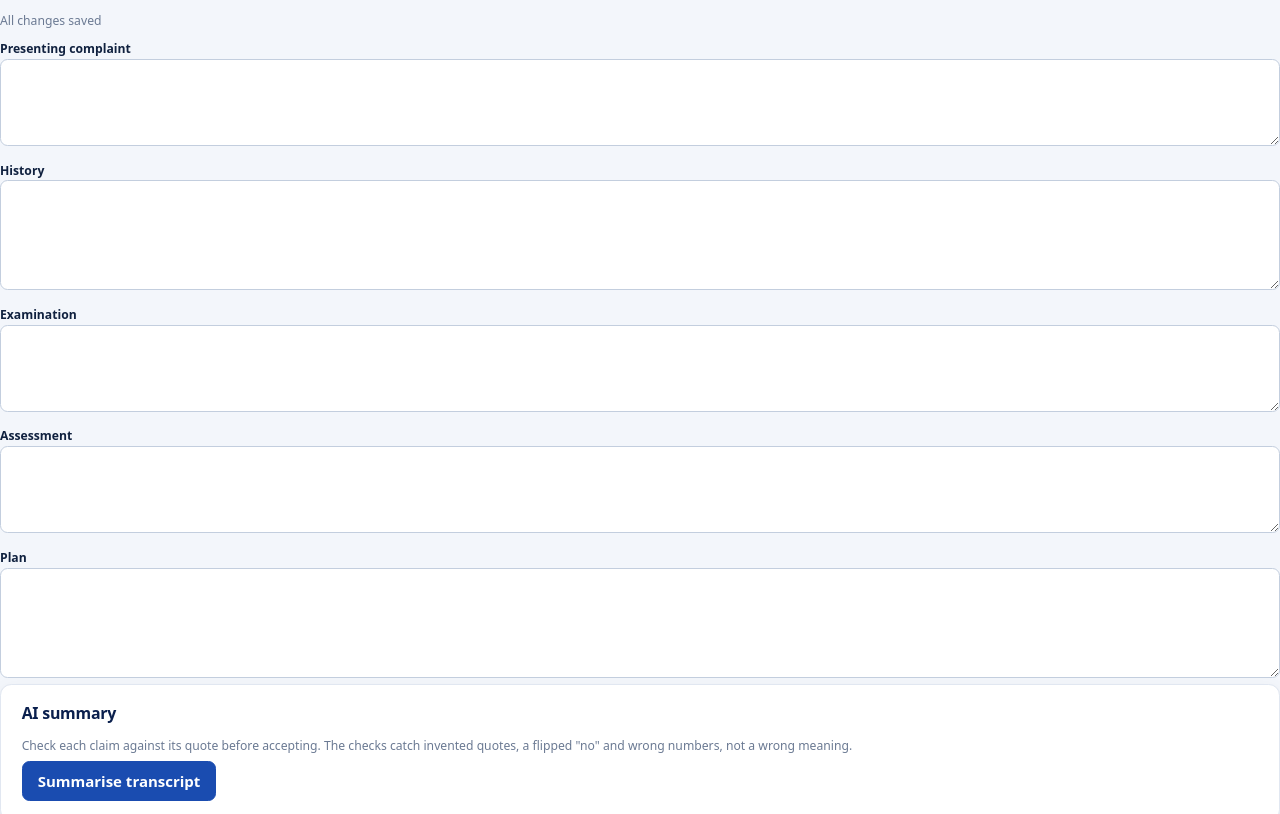
Test: Accepting from the note editor › saves the typing first, then shows the note with the accepted text
The width and height of the screenshot is (1280, 814).
In the text box labelled "Assessment": coordinates (640, 490) [0,446,1279,533], type "Typed"
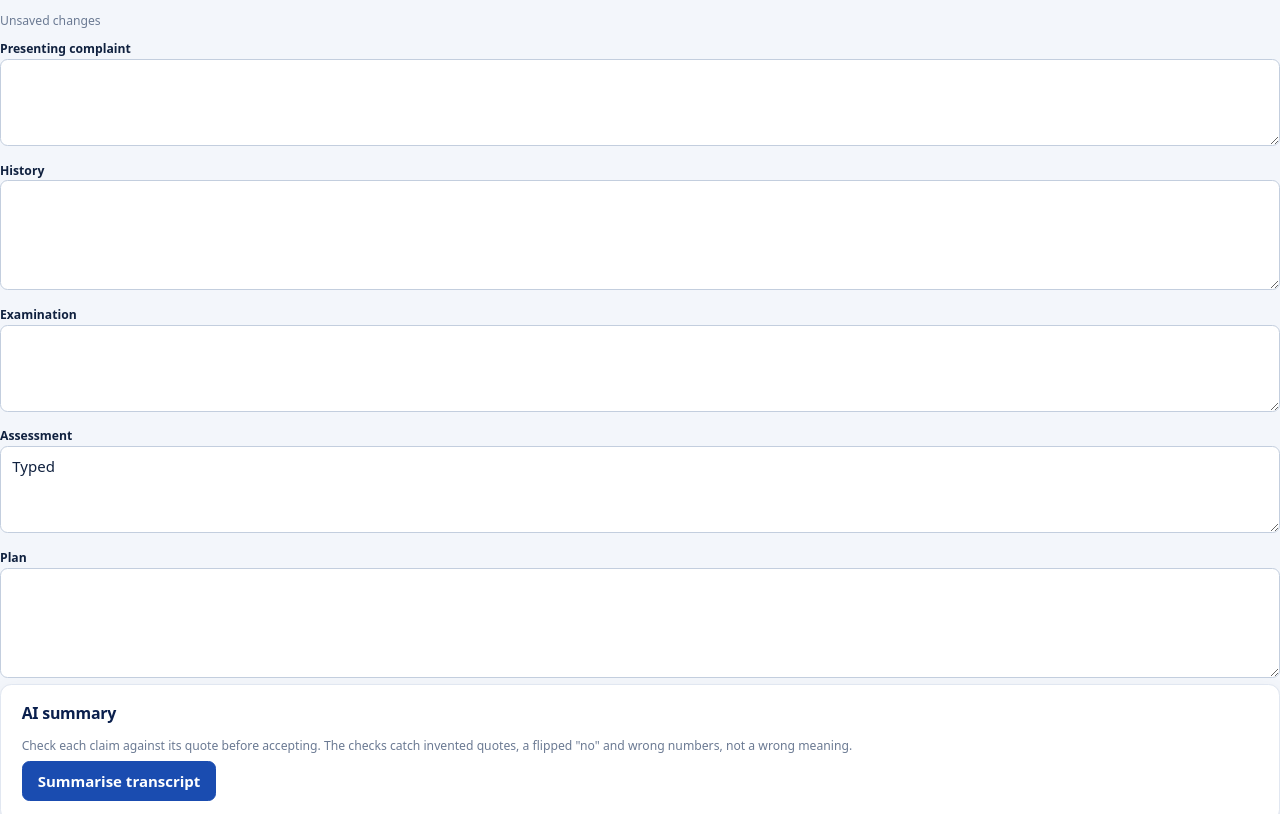
Click the button "Summarise transcript": coordinates (119, 781) [22,761,216,801]
(page scrolled)
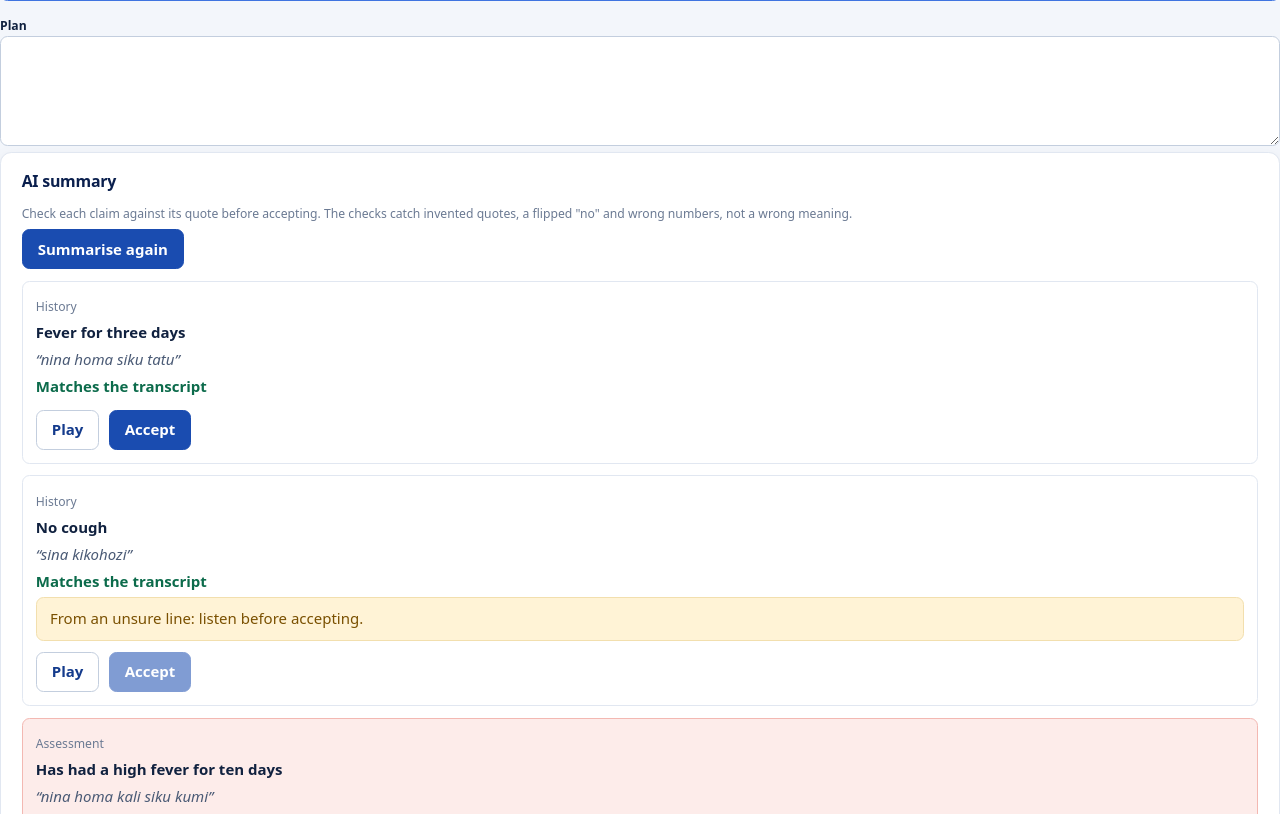
Click the button with aria-label "Accept: Fever for three days": coordinates (150, 430) [109,410,191,450]
(page scrolled)
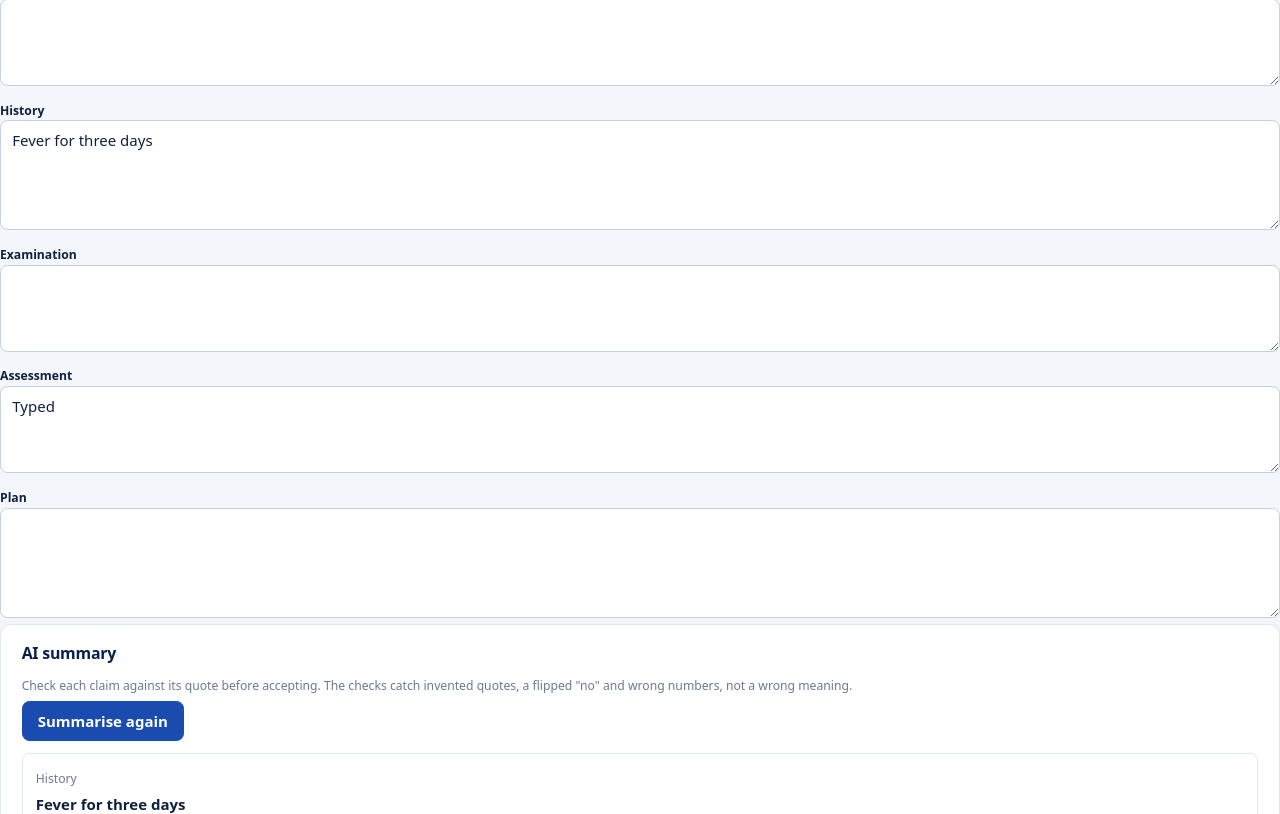
Now the text box labelled "History" holds "Fever for three days", box [0,120,1279,230]
